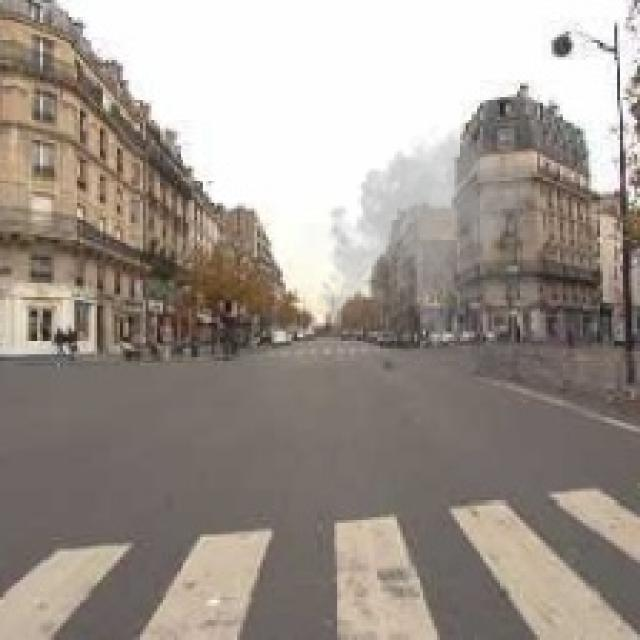Smoke: (314, 120, 540, 346)
